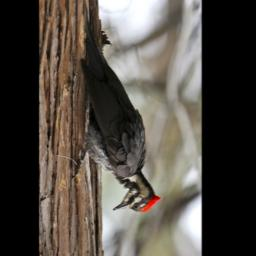Woodpecker: (71, 5, 162, 213)
